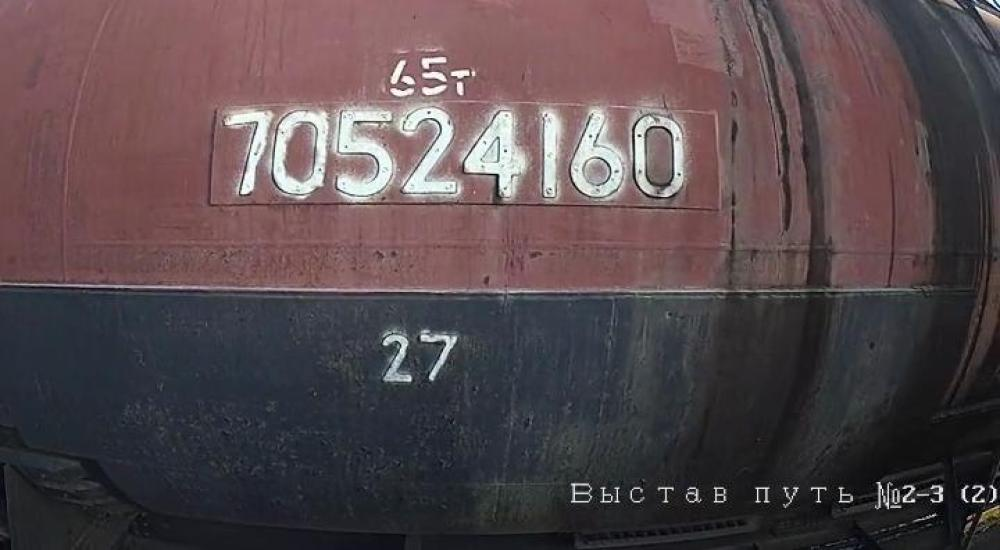Wagon-number: (217, 104, 696, 207)
